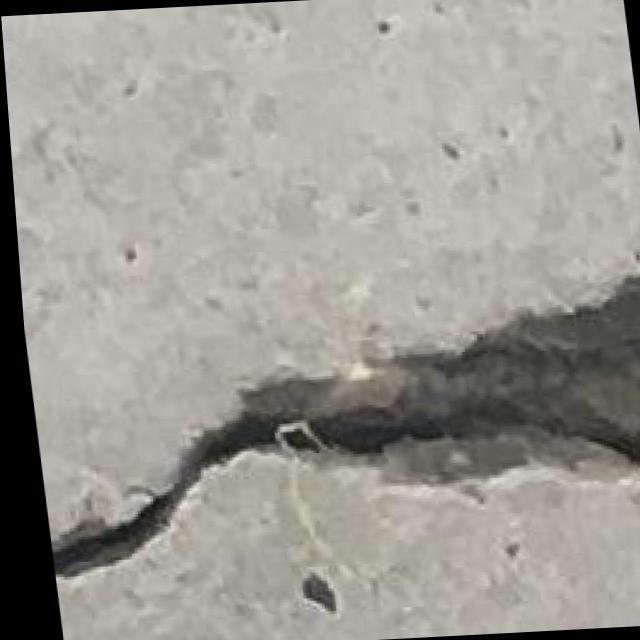Crack: (15, 265, 640, 580)
